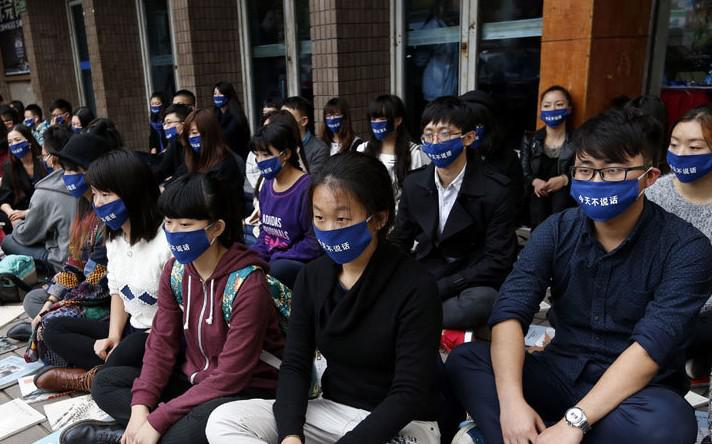OK: (570, 156, 633, 219), (312, 204, 370, 262), (163, 209, 216, 262), (667, 132, 711, 182), (63, 160, 90, 197), (254, 146, 282, 181), (541, 98, 568, 127), (370, 116, 394, 140), (187, 127, 207, 155), (9, 133, 31, 157), (326, 112, 345, 135), (24, 111, 39, 130), (53, 110, 67, 130), (213, 91, 227, 108), (151, 100, 163, 115)
WRONG: (423, 127, 465, 169), (90, 189, 129, 228), (164, 115, 183, 142)
